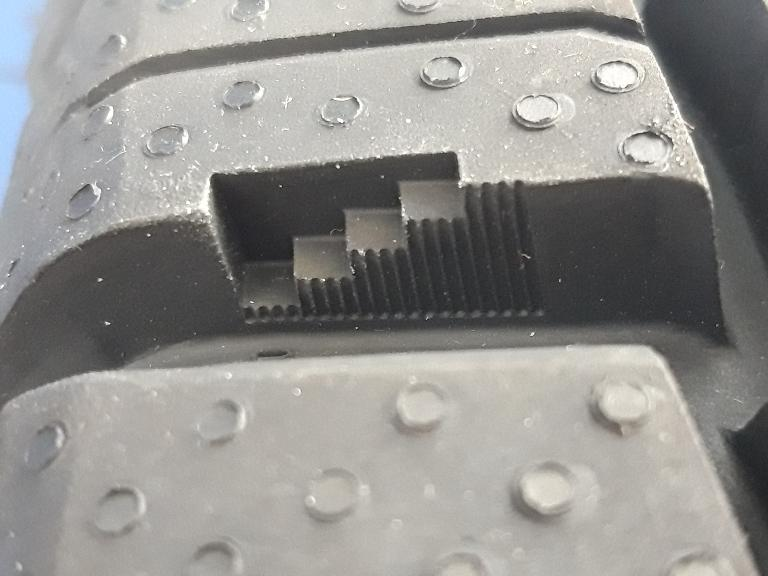temoin:100: (200, 146, 550, 330)
